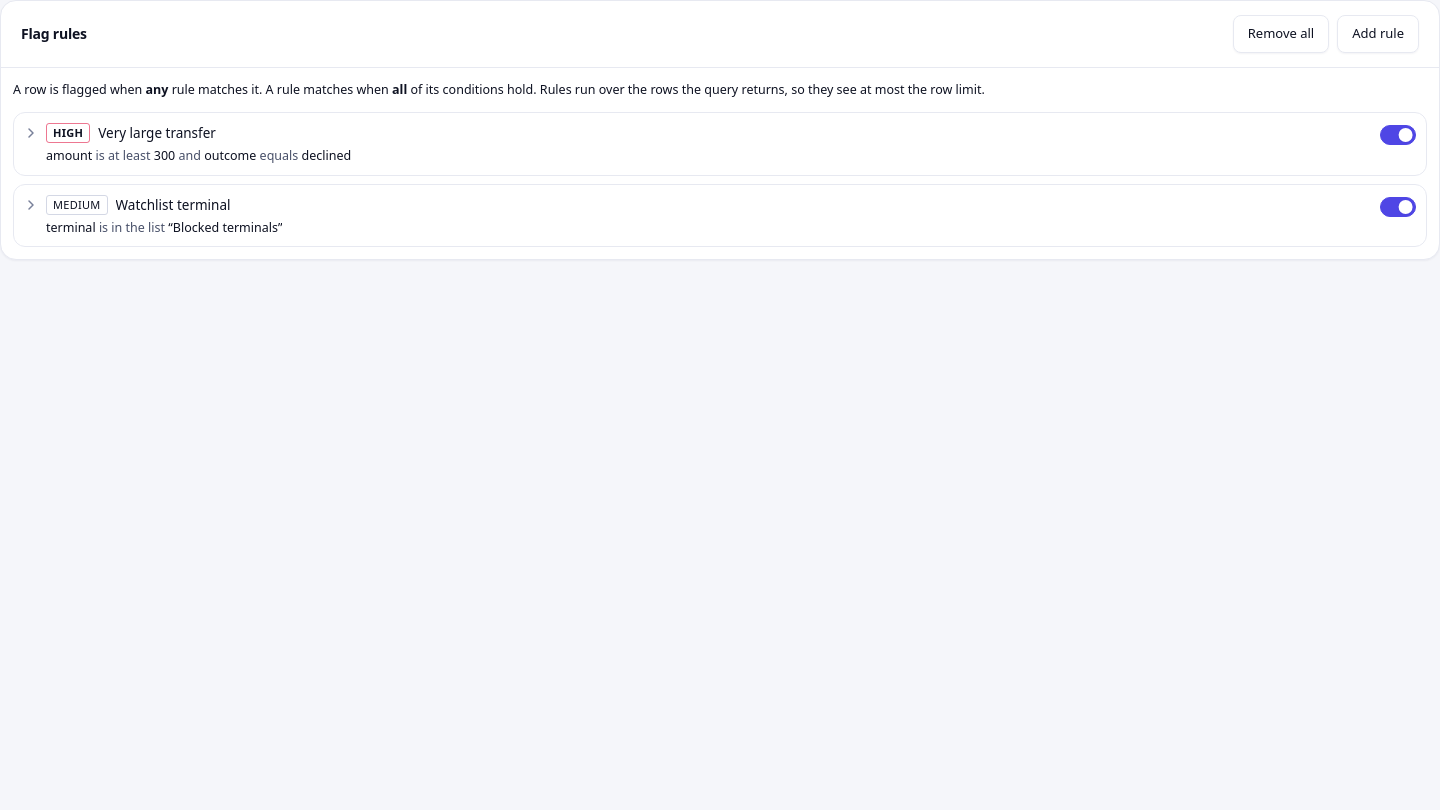
Test: opening and closing › opens on a click, and says so with aria-expanded
Click the button with aria-label "Edit rule Very large transfer".
click(68, 133)  # box [24,123,1372,164]
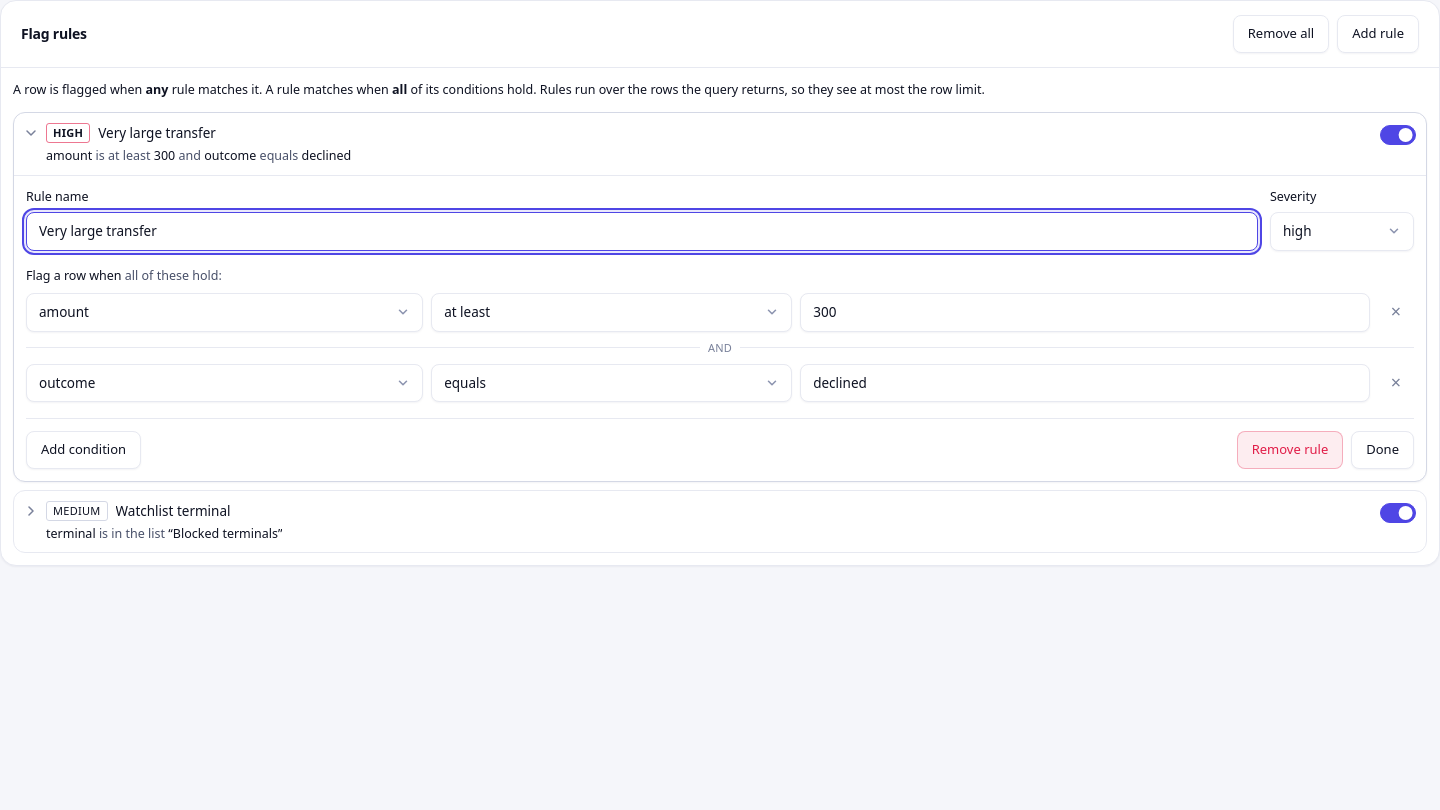
Expected: the field labelled "Rule name" holds "Very large transfer", [26,212,1258,251]
